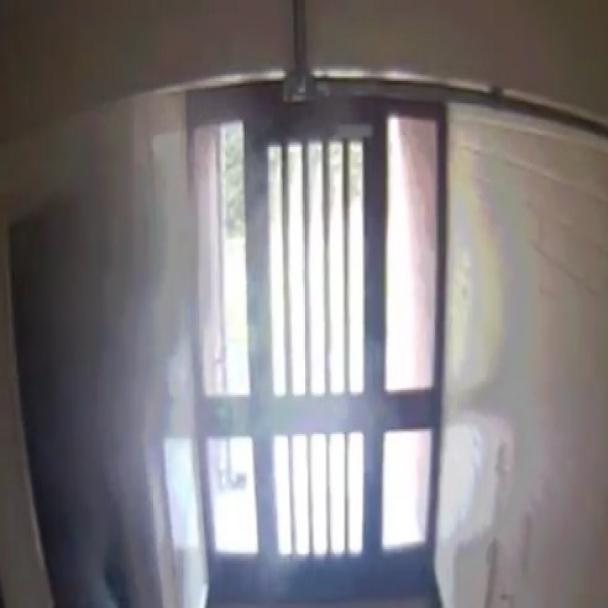smoke: (29, 45, 245, 603)
